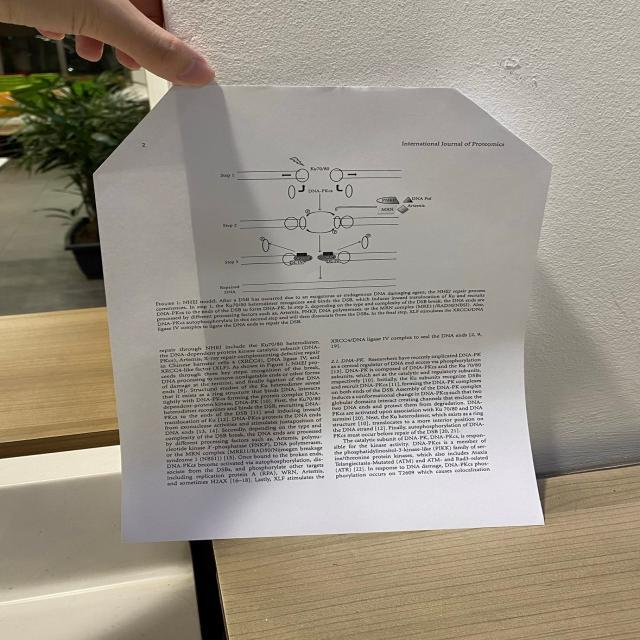document: (95, 86, 550, 541)
